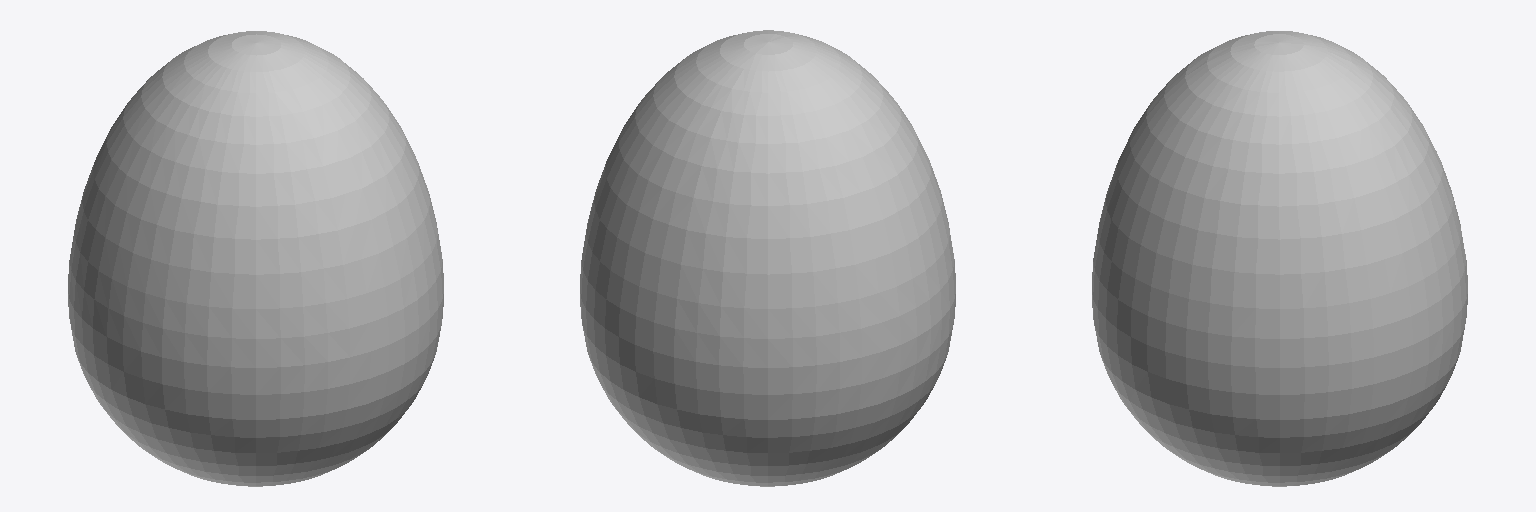
The model's file is oeuf_polygones.obj.
3 views of the same model, side by side, from view 1: azimuth 30°, elevation 25°; view 2: azimuth 150°, elevation 25°; view 3: azimuth 270°, elevation 25° (orthographic).
Parts seen in each view (by area): view 1: oeuf; view 2: oeuf; view 3: oeuf.
Boxes of the visible parts, x1=… form: oeuf: x1=68, y1=31, x2=443, y2=486; oeuf: x1=580, y1=30, x2=955, y2=486; oeuf: x1=1092, y1=31, x2=1467, y2=486.
Size of the model in its own units: 1 by 1.25 by 1.